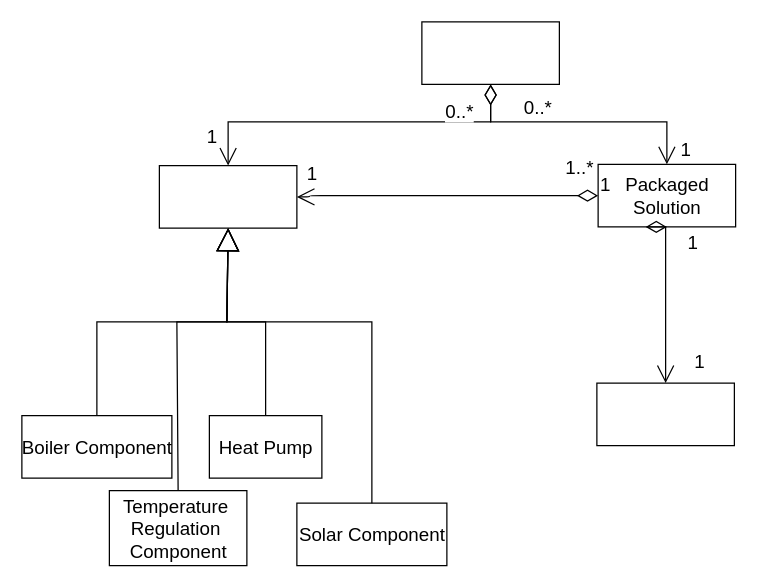
This 758x588 diagram has some shape labels left out. The shapes that lost their labels are listed below. From the top down, each one's box as (x1, y1, x2, y2) in pixels, then its label:
(421, 21, 559, 84): Archive
(158, 164, 297, 228): « abstract » Component
(596, 382, 734, 446): EEI
